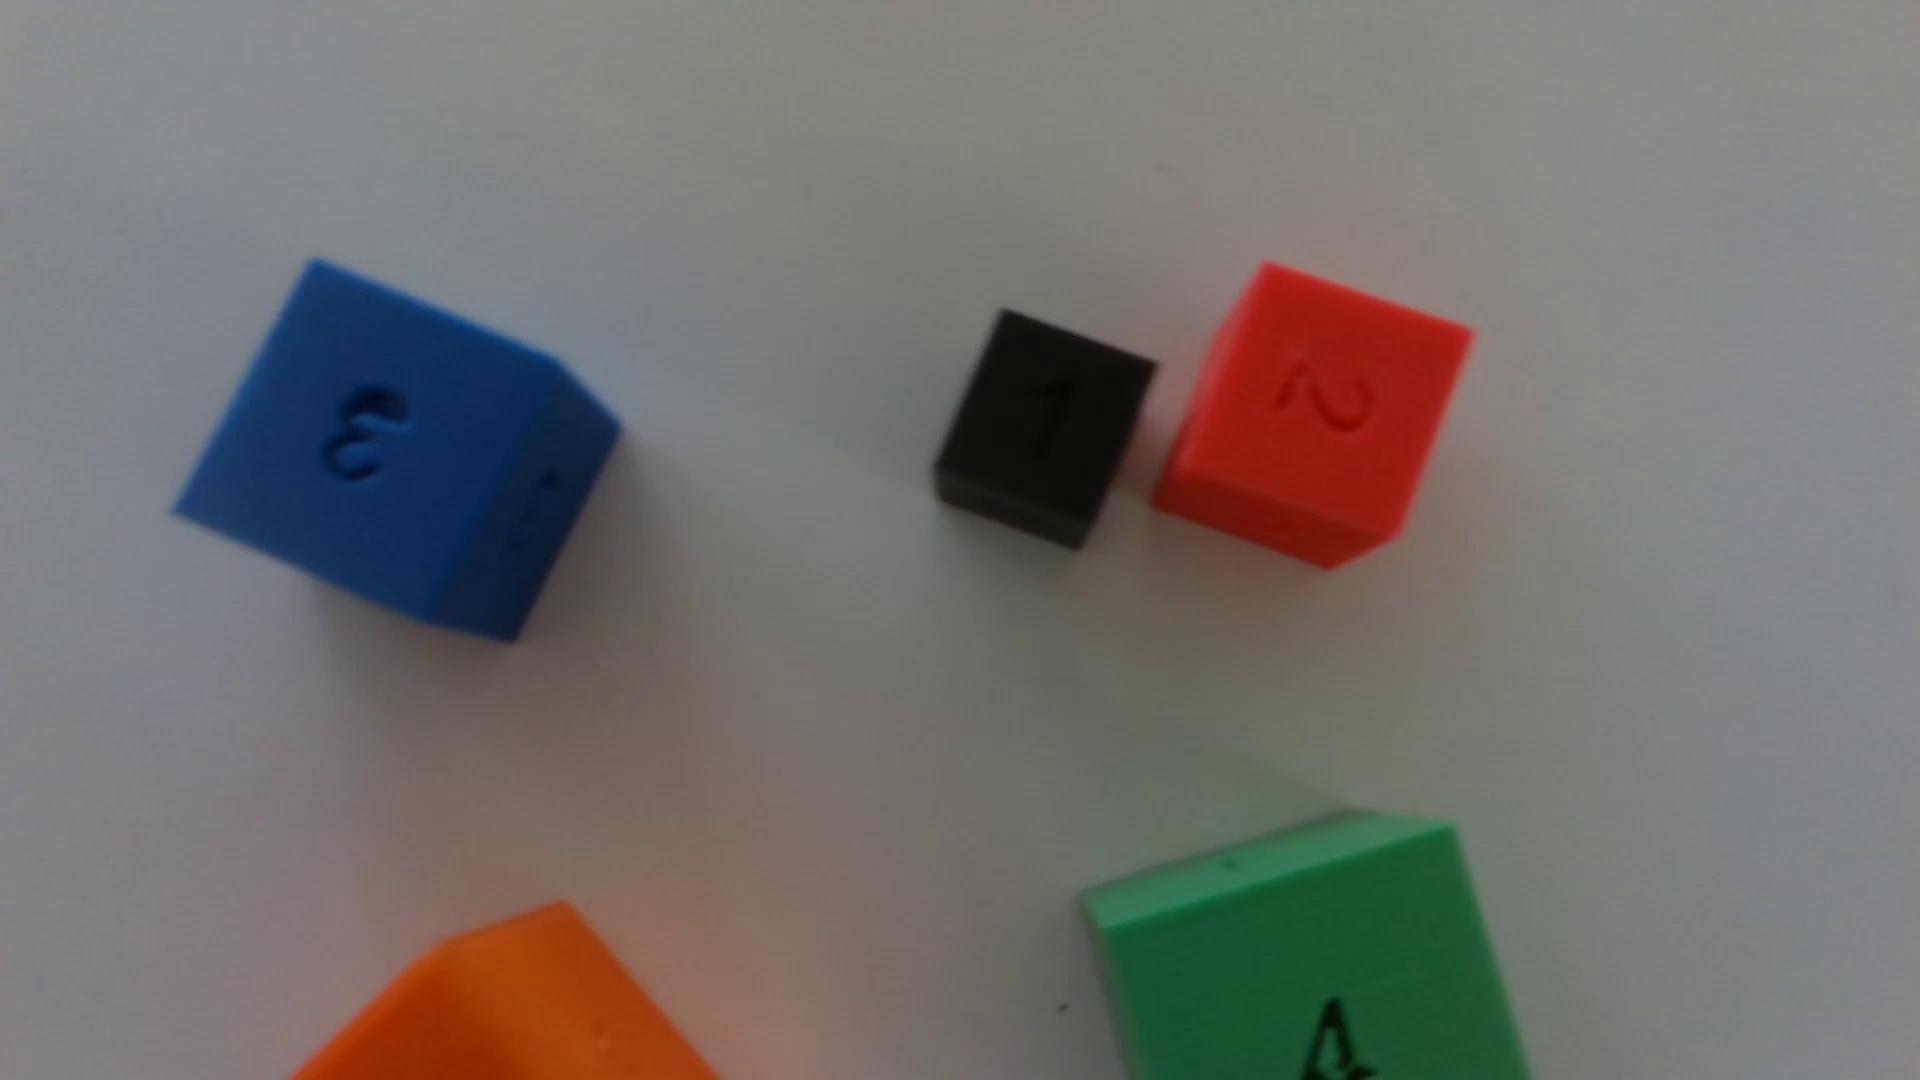black: (934, 311, 1156, 551)
blue: (175, 262, 620, 642)
green: (1083, 812, 1530, 1080)
orange: (293, 905, 716, 1080)
red: (1153, 265, 1472, 570)
